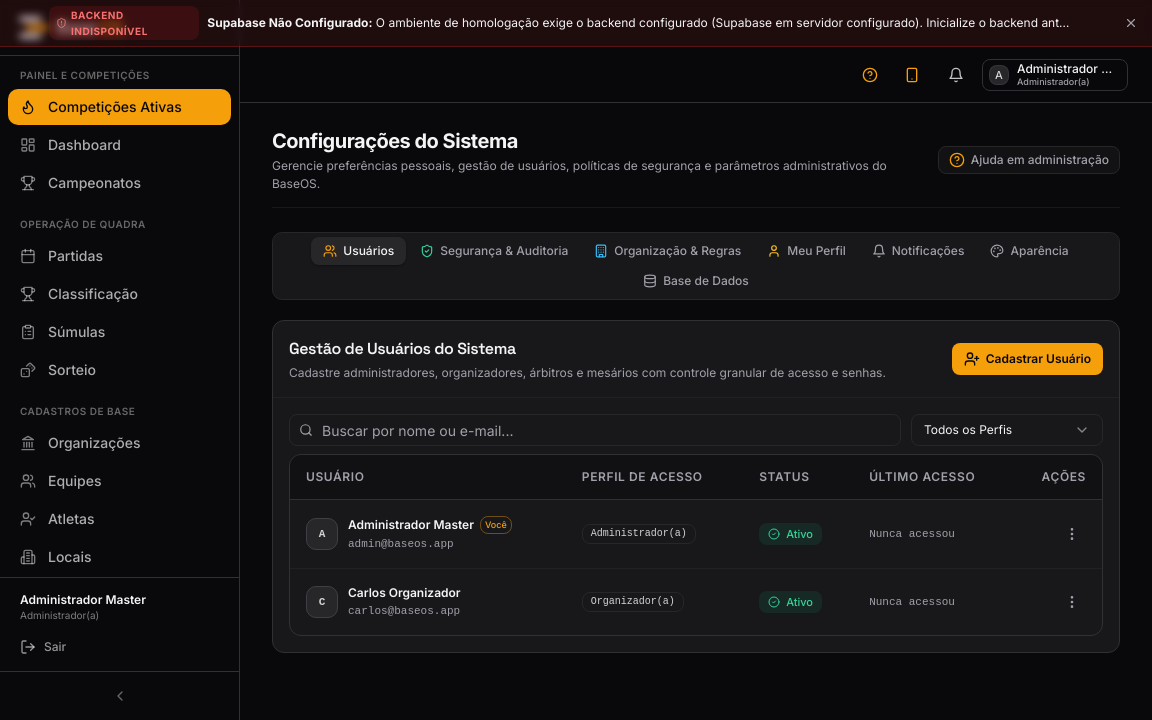
Test case: SettingsPage Component (Fase 8.4) › abre o modal de cadastro de usuário ao clicar no botão
The width and height of the screenshot is (1152, 720).
Click the button "Cadastrar Usuário".
click(1027, 359)  # box [952,343,1103,375]
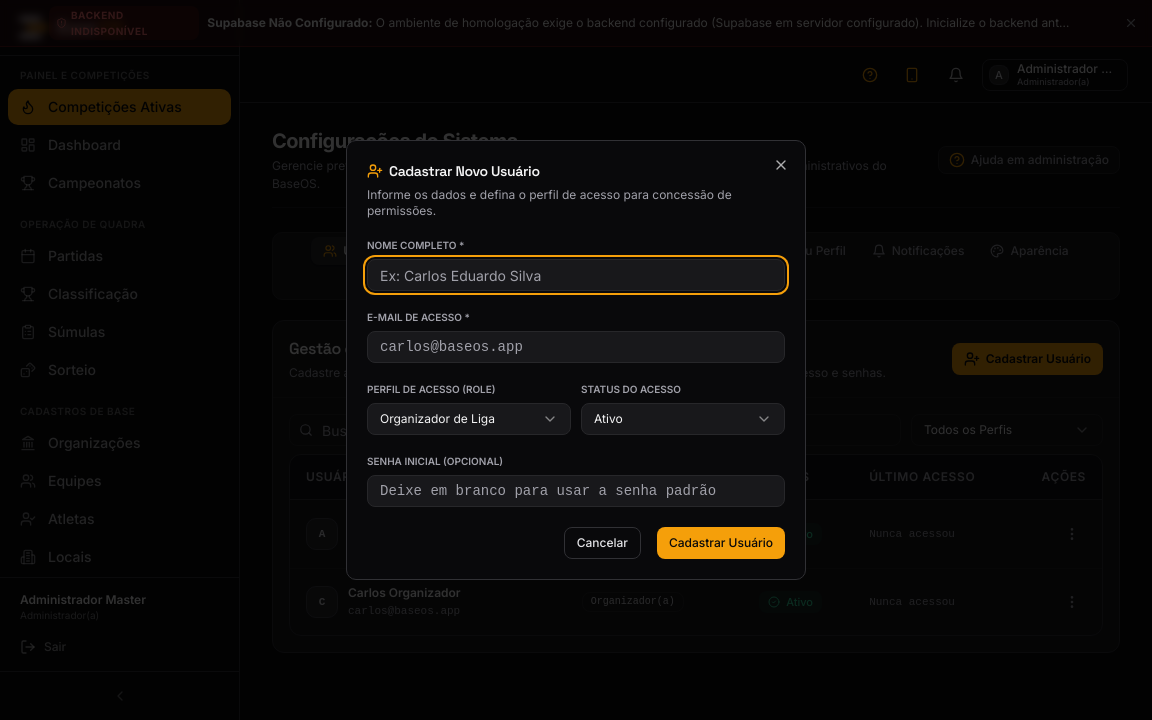
Expected: the dialog is shown, [346,140,806,580]
Expected: the field labelled "Nome Completo *" is shown, [367,259,785,291]
